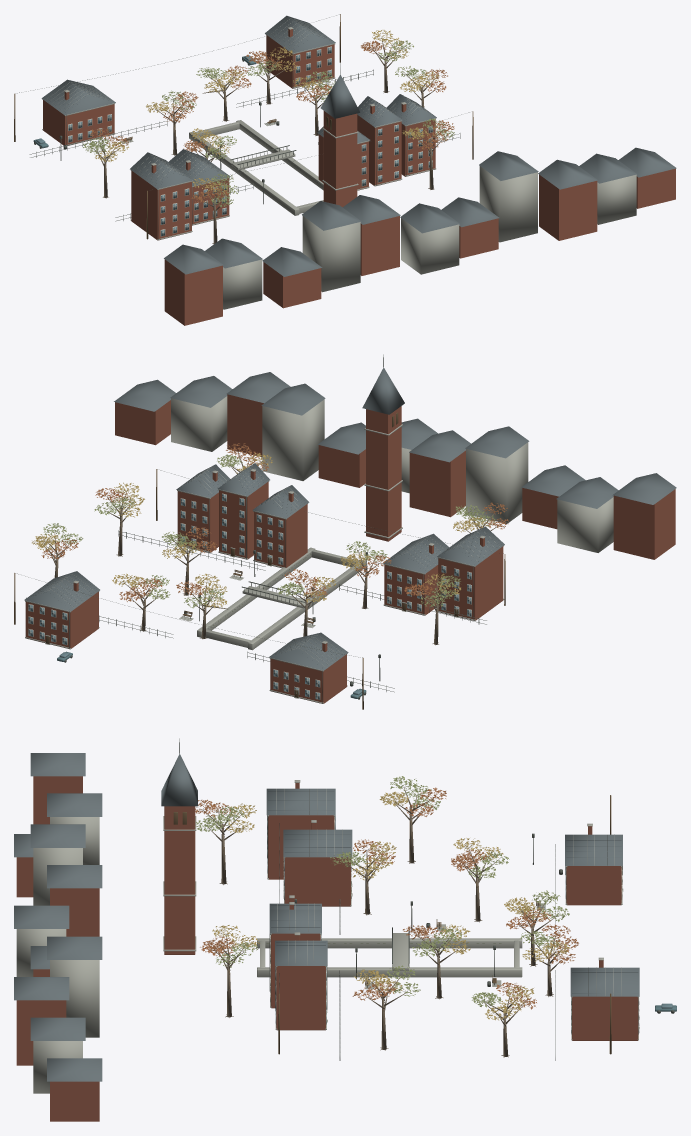
File: world.glb
The picture shows the model from 3 angles, top to bottom: view 1: azimuth 30°, elevation 25°; view 2: azimuth 150°, elevation 25°; view 3: azimuth 270°, elevation 25°; orthographic projection. The views are drawn at different scales.
Parts seen in each view (by area): view 1: world_warm_old_Amsterdam_brick, world_hand_laid_slate_tiles, world_weathered_limestone, world_deep_grooved_plane_tree_bark, world_painted_ivory_window_reveals, world_reflective_blue_grey_glass, world_black_wrought_iron, world_dark_weathered_oak; view 2: world_warm_old_Amsterdam_brick, world_hand_laid_slate_tiles, world_weathered_limestone, world_reflective_blue_grey_glass, world_painted_ivory_window_reveals, world_deep_grooved_plane_tree_bark, world_black_wrought_iron, world_dark_weathered_oak; view 3: world_warm_old_Amsterdam_brick, world_hand_laid_slate_tiles, world_weathered_limestone, world_deep_grooved_plane_tree_bark, world_black_wrought_iron, world_dark_weathered_oak, world_painted_ivory_window_reveals.
Part boxes in pixels (x1,y1,x2,y2): world_warm_old_Amsterdam_brick: (43, 29, 675, 325); world_hand_laid_slate_tiles: (41, 15, 676, 276); world_weathered_limestone: (42, 18, 636, 309); world_deep_grooved_plane_tree_bark: (90, 34, 446, 243); world_painted_ivory_window_reveals: (68, 46, 432, 236); world_reflective_blue_grey_glass: (36, 47, 432, 236); world_black_wrought_iron: (17, 14, 469, 239); world_dark_weathered_oak: (14, 14, 473, 239); world_warm_old_Amsterdam_brick: (25, 394, 675, 703); world_hand_laid_slate_tiles: (24, 367, 676, 670); world_weathered_limestone: (25, 396, 613, 703); world_reflective_blue_grey_glass: (28, 494, 471, 699); world_painted_ivory_window_reveals: (28, 493, 471, 699); world_deep_grooved_plane_tree_bark: (41, 447, 504, 645); world_black_wrought_iron: (17, 354, 503, 703); world_dark_weathered_oak: (14, 412, 505, 709); world_warm_old_Amsterdam_brick: (16, 776, 638, 1121); world_hand_laid_slate_tiles: (14, 753, 639, 1081); world_weathered_limestone: (16, 780, 639, 1093); world_deep_grooved_plane_tree_bark: (199, 784, 567, 1057); world_black_wrought_iron: (179, 738, 674, 1060); world_dark_weathered_oak: (173, 795, 622, 1055); world_painted_ivory_window_reveals: (267, 816, 639, 1034).
Bounding box in the file's own units: 130 × 43.15 × 120.
